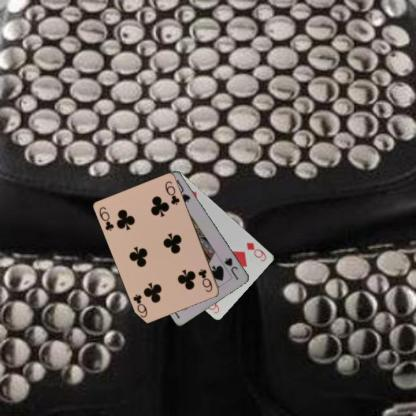6c: (195, 266, 214, 294), (96, 204, 115, 232)
6d: (244, 240, 267, 263)
Js: (222, 255, 240, 281)
